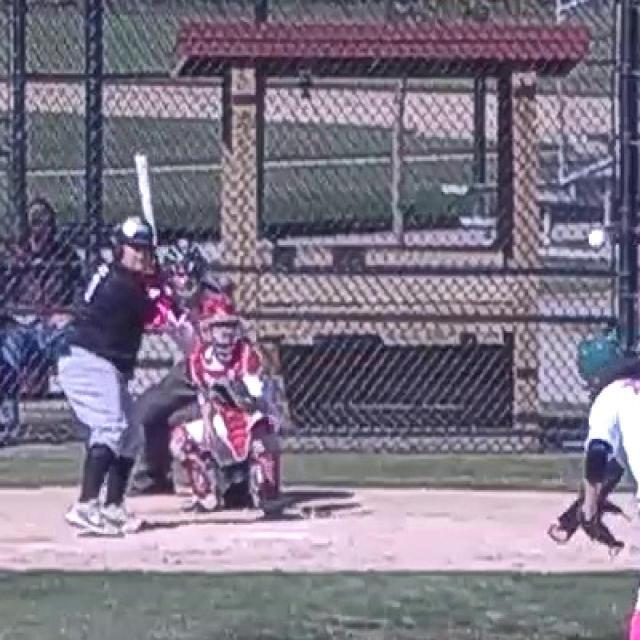ball: (588, 228, 606, 250)
bat: (132, 156, 160, 248)
